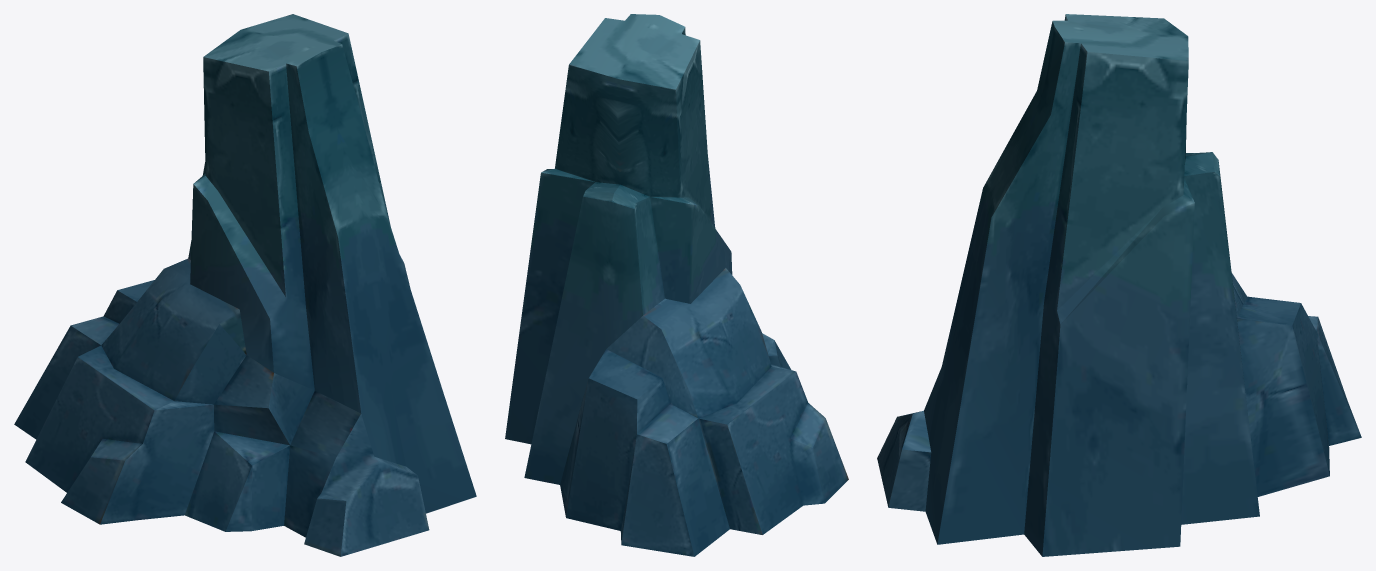
Rendered from map_111_shitou_3.fbx.
3 renders of one model, left to right at view 1: azimuth 30°, elevation 25°; view 2: azimuth 150°, elevation 25°; view 3: azimuth 270°, elevation 25°, orthographic. The views are drawn at different scales.
Parts seen in each view (by area): view 1: map_111_shitou_3; view 2: map_111_shitou_3; view 3: map_111_shitou_3.
Boxes of the visible parts, <box> form: map_111_shitou_3: <box>14,14,476,556</box>; map_111_shitou_3: <box>505,14,848,556</box>; map_111_shitou_3: <box>877,14,1361,556</box>.
Size of the model in its own units: 3.3 by 3.97 by 3.75.
